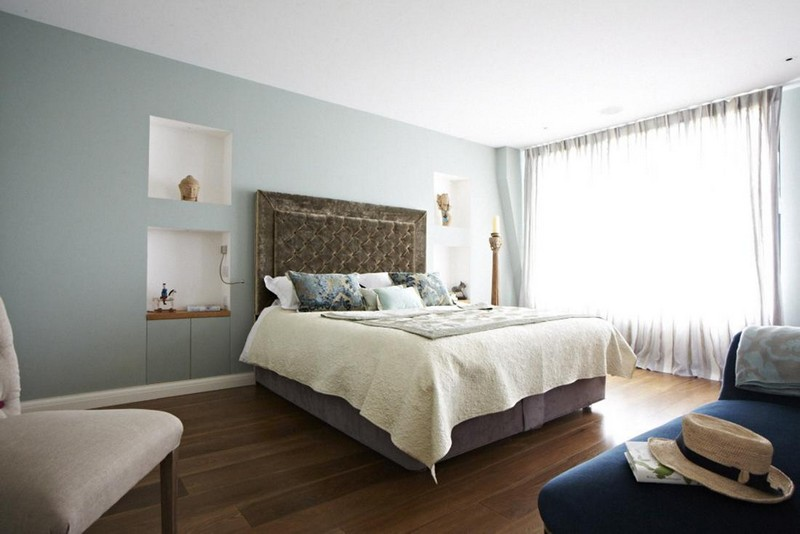bed: (251, 187, 609, 470)
sofa: (543, 315, 800, 528), (2, 298, 190, 532)
